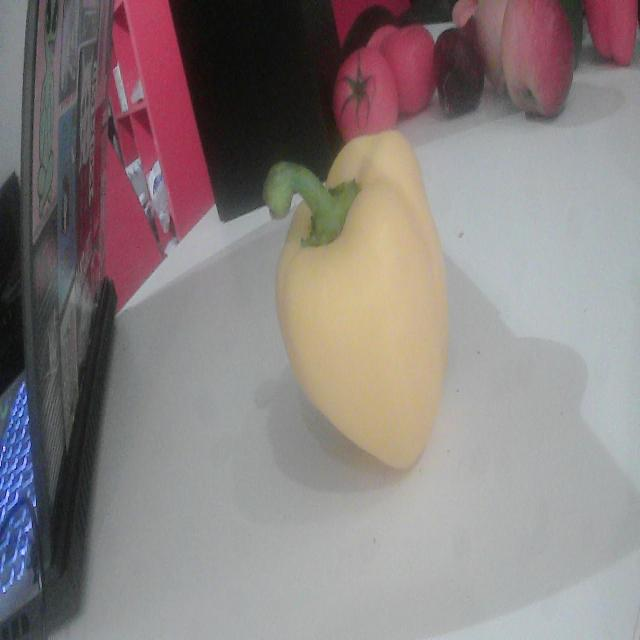Apple: (501, 0, 574, 117)
Bell Pepper: (276, 131, 448, 468)
Onion: (434, 21, 484, 116)
Tomato: (334, 44, 398, 141), (381, 24, 436, 117)
